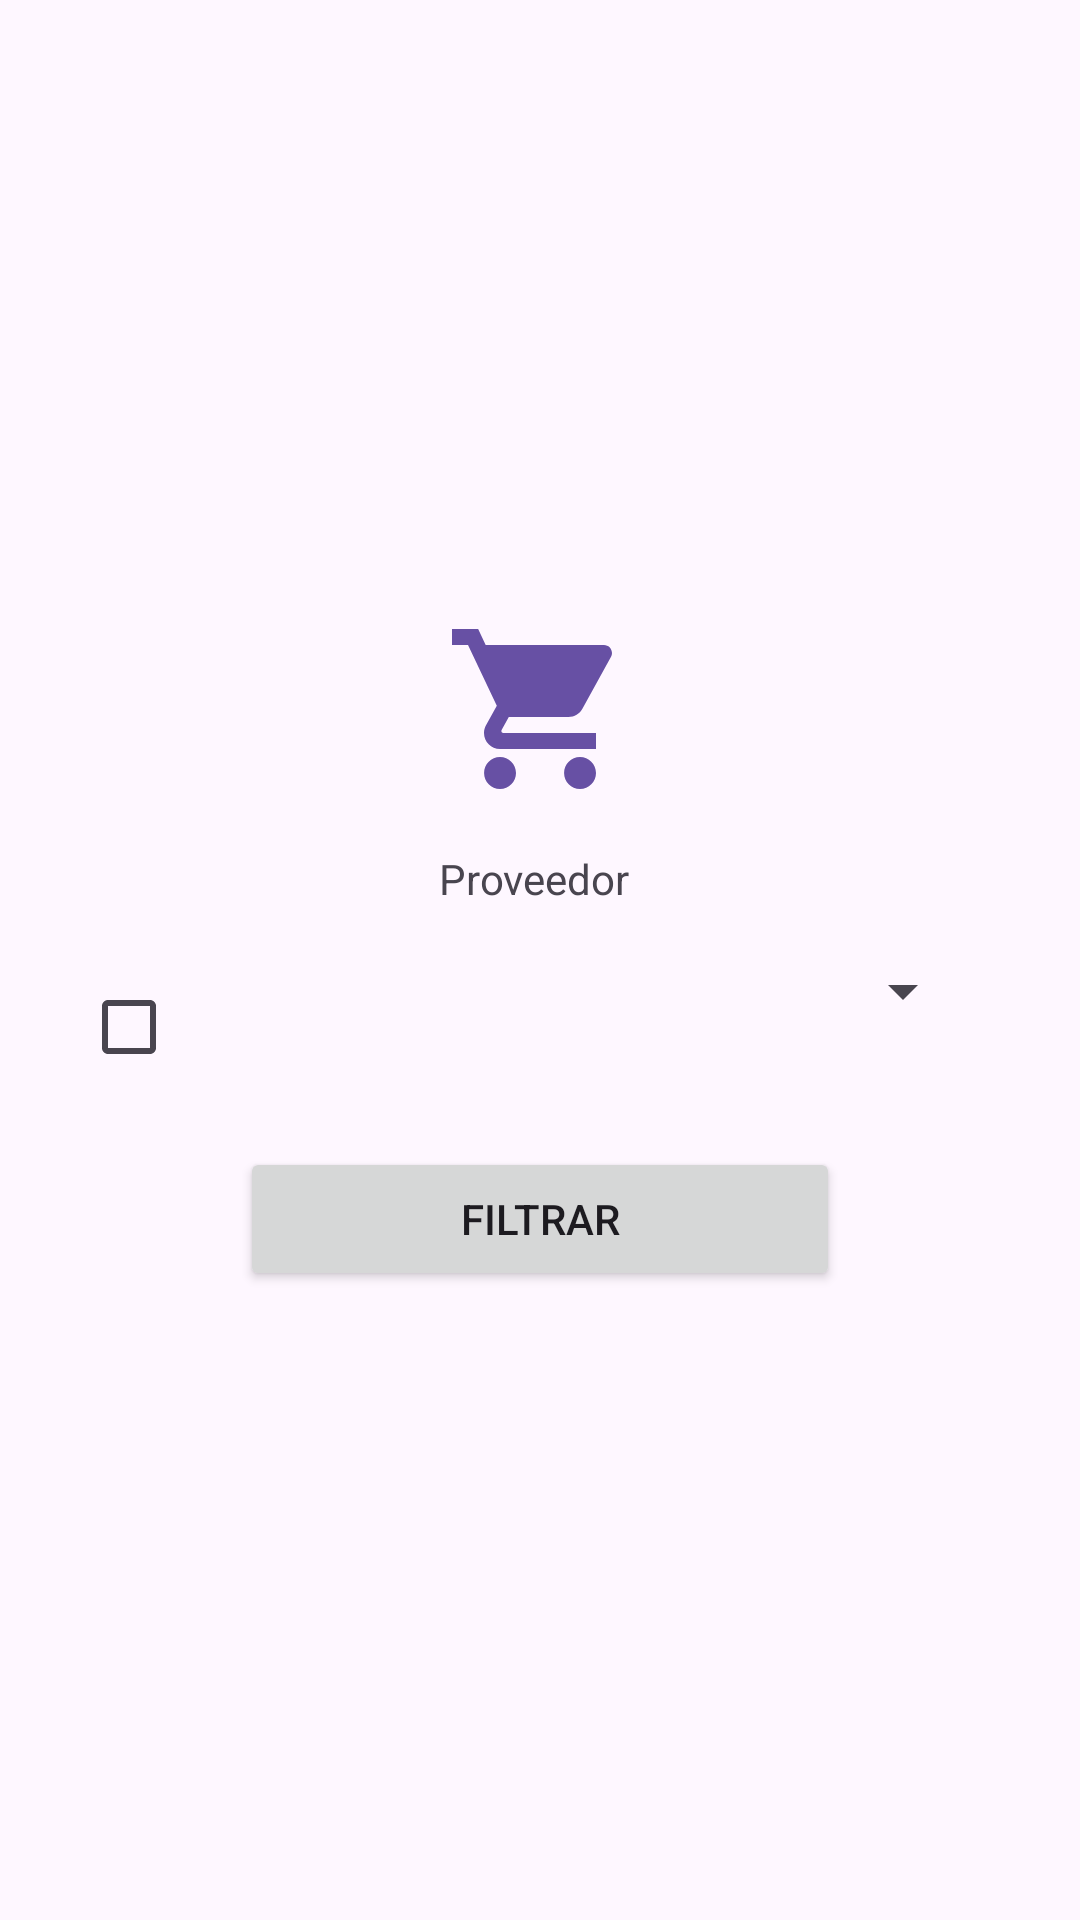

Icon bounding boxes for this 1080px x 1920px phone screenshot, format [x1=x1, y1=y1, x2=x2, y2=y2]:
shopping cart: [x1=452, y1=629, x2=612, y2=789]
